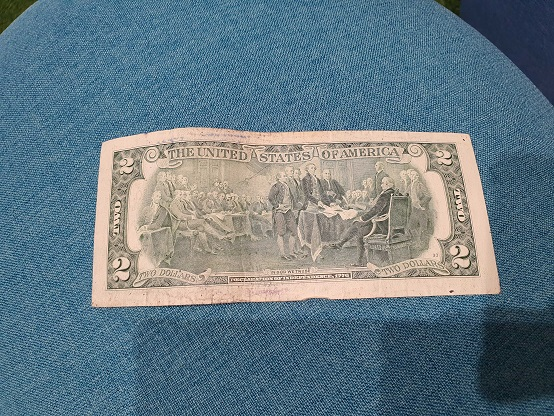2dollar: (92, 127, 502, 307)
